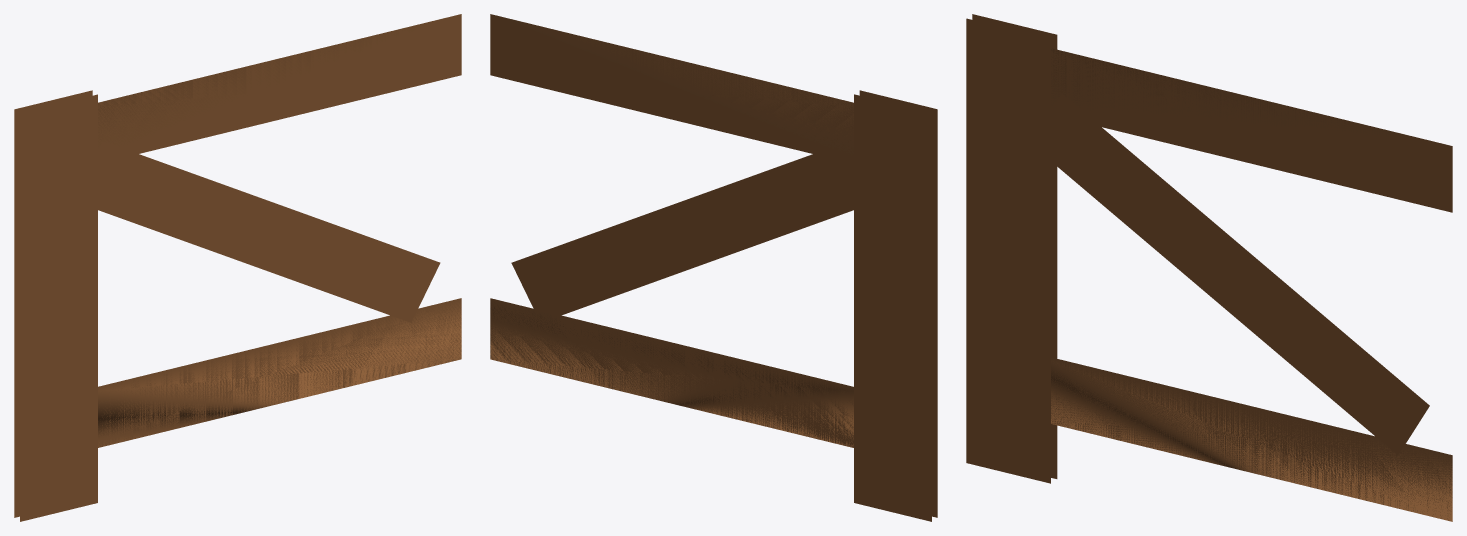
The model's file is FenceAPieceLOD2.fbx.
The picture shows the model from 3 angles, left to right: view 1: azimuth 30°, elevation 25°; view 2: azimuth 150°, elevation 25°; view 3: azimuth 330°, elevation 25°; orthographic projection. The views are drawn at different scales.
Visible parts, largest first — view 1: FenceAPieceLOD2; view 2: FenceAPieceLOD2; view 3: FenceAPieceLOD2.
Part boxes in pixels (bbox=[...]): FenceAPieceLOD2: bbox=[14, 14, 461, 521]; FenceAPieceLOD2: bbox=[490, 14, 937, 521]; FenceAPieceLOD2: bbox=[966, 14, 1452, 521].
Size of the model in its own units: 114 by 100 by 2.47.
